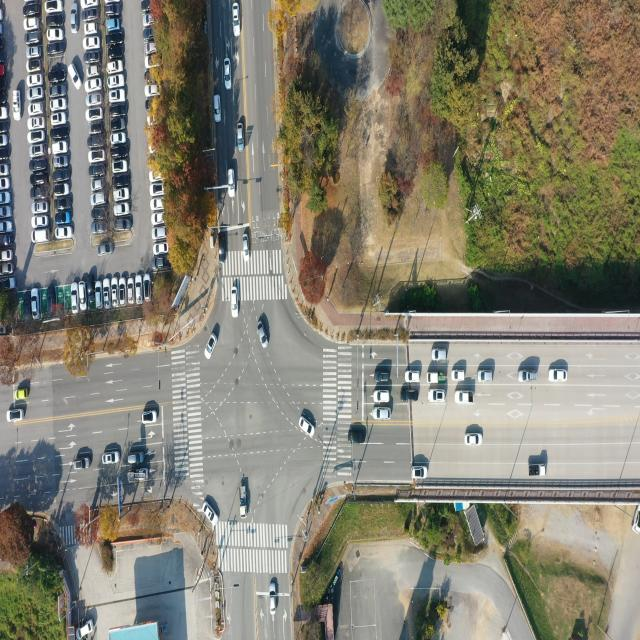car: (76, 619, 94, 640), (204, 504, 218, 528), (233, 2, 242, 37), (206, 333, 218, 359), (51, 66, 68, 84), (69, 63, 81, 88), (301, 417, 315, 438), (258, 322, 268, 350), (454, 390, 474, 404), (222, 59, 231, 90), (12, 89, 22, 116), (349, 430, 368, 444), (269, 581, 277, 614), (32, 231, 50, 245), (400, 389, 418, 403), (519, 371, 538, 384), (51, 127, 70, 140), (22, 291, 31, 318), (108, 44, 124, 59), (46, 285, 54, 315), (45, 0, 62, 14), (111, 162, 128, 176), (549, 368, 567, 381), (110, 118, 126, 132), (227, 172, 235, 200), (107, 30, 123, 44), (144, 97, 160, 111), (218, 232, 225, 264), (56, 228, 73, 241), (108, 75, 125, 88), (46, 29, 63, 42), (73, 458, 90, 471), (49, 42, 66, 55), (92, 207, 109, 220), (232, 287, 239, 318), (373, 410, 391, 422), (53, 112, 68, 126), (32, 288, 39, 318), (375, 391, 391, 404), (431, 349, 447, 362), (465, 435, 481, 448), (412, 466, 428, 479), (52, 86, 68, 99), (478, 371, 494, 384), (110, 92, 126, 105), (56, 212, 72, 225), (110, 133, 126, 146), (0, 277, 16, 290), (28, 103, 44, 116), (376, 372, 392, 385), (88, 108, 104, 121), (24, 3, 40, 16), (152, 258, 168, 271), (84, 7, 100, 20), (428, 391, 445, 403), (105, 4, 122, 16), (46, 14, 63, 26), (78, 282, 85, 311), (214, 92, 221, 121), (634, 503, 640, 536), (71, 284, 78, 312), (237, 122, 244, 150), (144, 274, 151, 302), (88, 280, 95, 308), (243, 233, 250, 261), (54, 142, 69, 155), (142, 412, 157, 425), (33, 203, 48, 216), (24, 19, 39, 32), (113, 188, 128, 201), (88, 78, 103, 91), (56, 170, 71, 183), (91, 165, 106, 178), (32, 216, 48, 228), (52, 100, 68, 112), (114, 219, 130, 231), (30, 132, 46, 144), (90, 150, 106, 162), (7, 411, 23, 423), (31, 161, 47, 173), (86, 52, 102, 64), (56, 200, 72, 212), (128, 452, 144, 464), (144, 56, 160, 68), (110, 147, 126, 159), (110, 106, 126, 118), (96, 281, 103, 308), (71, 7, 78, 34), (103, 453, 120, 464), (114, 204, 128, 217), (92, 195, 106, 208), (118, 278, 125, 304), (128, 278, 135, 304), (56, 184, 71, 196), (29, 116, 44, 128), (28, 90, 43, 102), (108, 62, 123, 74), (32, 187, 47, 199), (86, 37, 101, 49), (25, 33, 40, 45), (29, 158, 44, 170), (90, 136, 105, 148), (30, 146, 46, 157), (88, 95, 104, 106), (152, 229, 165, 242), (145, 86, 158, 99), (28, 74, 42, 86), (92, 222, 106, 234), (106, 20, 120, 32), (407, 372, 421, 384), (99, 245, 113, 257), (155, 244, 169, 256), (136, 276, 142, 304), (27, 46, 41, 58), (112, 278, 118, 306), (115, 175, 129, 187), (90, 124, 104, 136), (55, 158, 70, 169), (104, 280, 110, 307), (0, 222, 13, 234), (0, 207, 12, 220), (150, 184, 163, 196), (1, 265, 14, 277), (85, 23, 98, 35), (88, 66, 101, 78), (14, 389, 28, 400), (28, 61, 42, 72), (450, 369, 464, 380), (151, 200, 163, 212), (152, 213, 164, 225), (92, 179, 104, 191), (145, 70, 157, 82), (0, 251, 13, 262), (32, 176, 46, 186), (30, 178, 44, 188), (0, 192, 11, 204), (83, 0, 99, 8), (0, 146, 9, 160), (0, 178, 10, 190), (149, 172, 161, 182), (146, 42, 156, 54), (143, 13, 152, 26), (0, 165, 9, 177), (0, 108, 8, 121), (0, 135, 8, 148), (143, 30, 153, 40), (142, 0, 151, 11), (0, 123, 8, 135), (1, 92, 7, 105), (0, 77, 6, 89), (0, 62, 4, 74)
small_truck: (129, 468, 150, 482), (529, 463, 547, 477), (240, 486, 247, 518), (427, 373, 444, 385), (0, 236, 14, 248)
